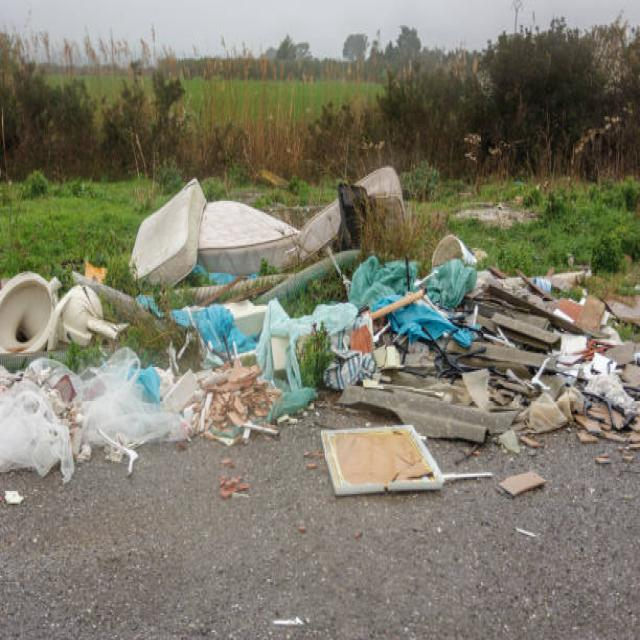plastic: (10, 372, 202, 461)
